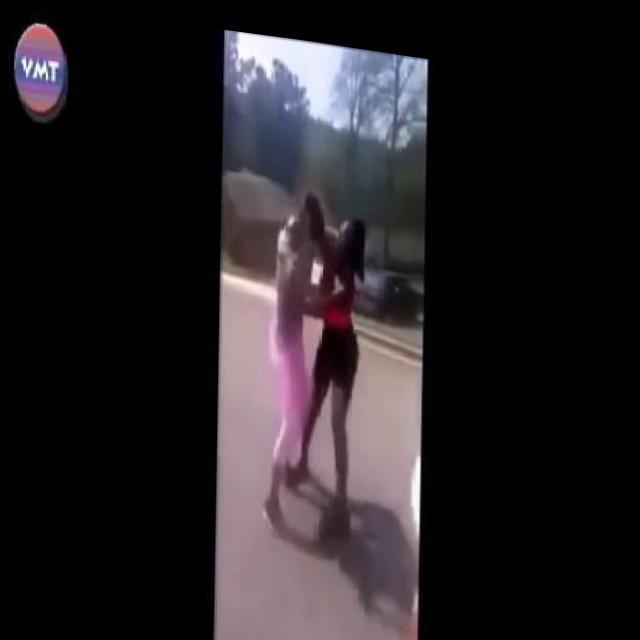fight: (267, 169, 362, 532)
